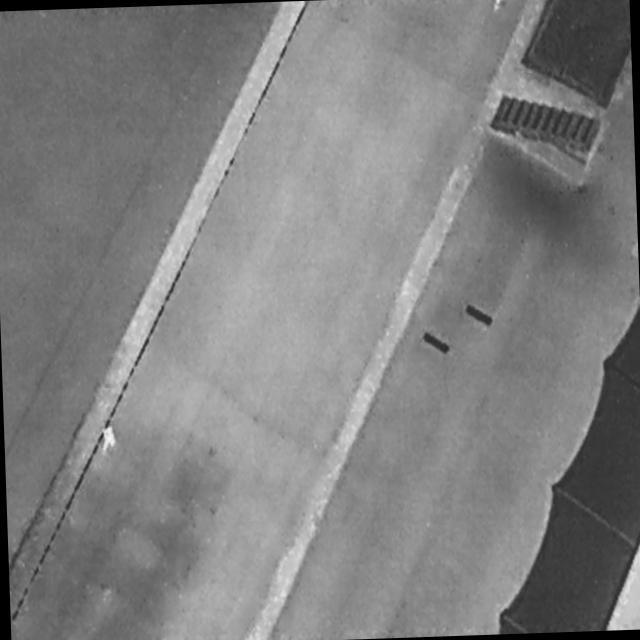person: (100, 426, 119, 452), (491, 1, 507, 11)
